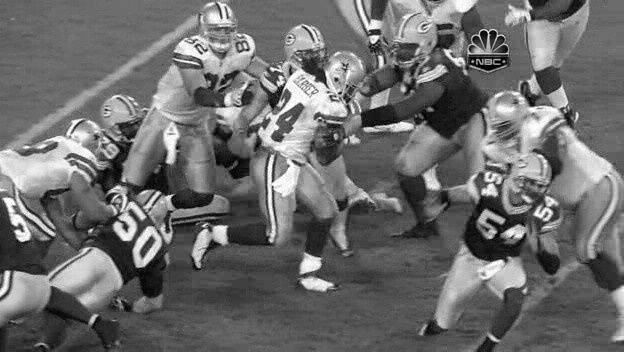person: (333, 55, 367, 99), (332, 55, 366, 99), (334, 55, 368, 99), (333, 54, 367, 98), (333, 56, 367, 100)
target_negative: (30, 71, 326, 295), (393, 161, 598, 266), (101, 204, 515, 240), (2, 281, 103, 332), (338, 323, 375, 336), (383, 188, 397, 196)
